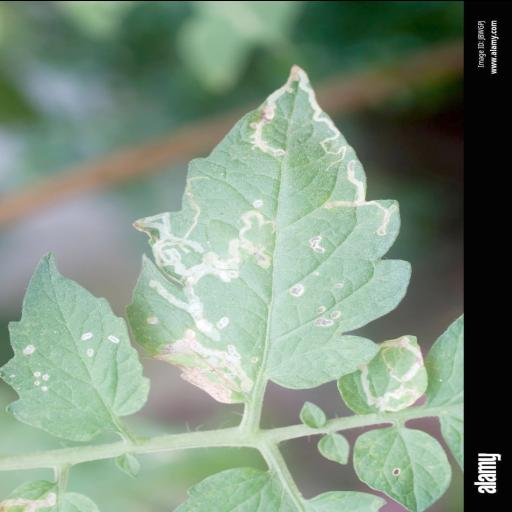Leaf Miner: (126, 61, 414, 403), (337, 332, 431, 412)
